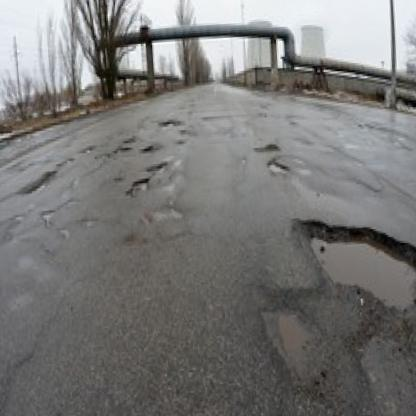pothole: (295, 209, 416, 319), (256, 284, 340, 404), (347, 311, 416, 416), (14, 169, 60, 197), (140, 203, 184, 226), (122, 176, 151, 201), (266, 157, 288, 177), (145, 161, 169, 174), (57, 154, 75, 171), (41, 207, 55, 226), (157, 119, 179, 129), (82, 143, 94, 157), (115, 145, 132, 153), (142, 143, 159, 151)
